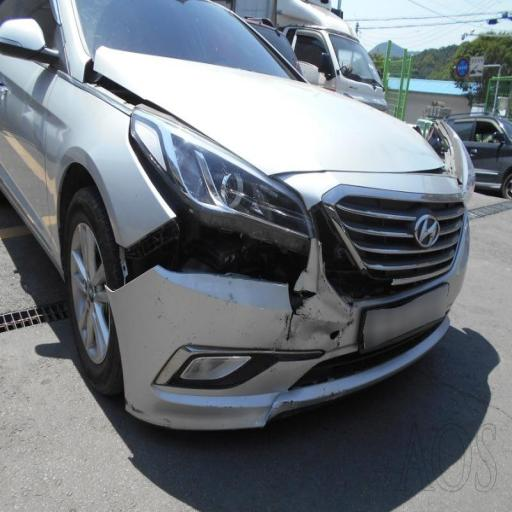broken: (94, 120, 375, 375)
